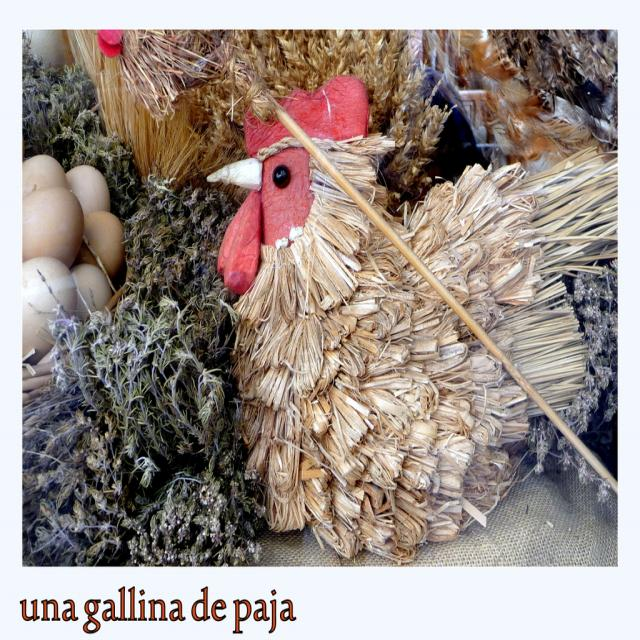Chicken: (198, 76, 610, 593)
